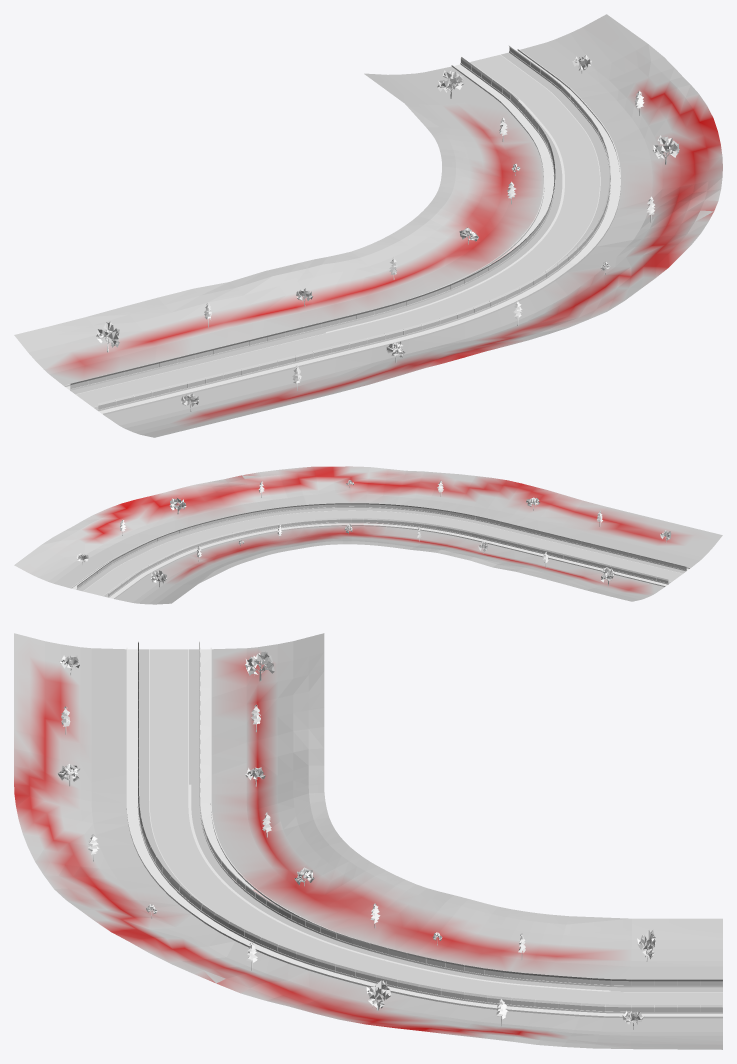
3 renders of one model, top to bottom at view 1: azimuth 30°, elevation 25°; view 2: azimuth 150°, elevation 25°; view 3: azimuth 270°, elevation 25°, orthographic. The views are drawn at different scales.
Parts seen in each view (by area): view 1: Grass, Road, Track, Wirefence, Trees; view 2: Grass, Road, Wirefence, Track, Trees; view 3: Grass, Road, Track, Wirefence, Trees.
Part boxes in pixels (bbox=[...]): Grass: bbox=[14, 14, 722, 437]; Road: bbox=[76, 55, 599, 407]; Track: bbox=[65, 45, 620, 414]; Wirefence: bbox=[70, 46, 610, 409]; Trees: bbox=[96, 55, 679, 411]; Grass: bbox=[14, 466, 722, 604]; Road: bbox=[83, 510, 682, 596]; Wirefence: bbox=[77, 503, 686, 596]; Track: bbox=[71, 503, 689, 598]; Trees: bbox=[76, 480, 671, 587]; Grass: bbox=[14, 633, 722, 1049]; Road: bbox=[149, 649, 722, 1004]; Track: bbox=[126, 647, 722, 1018]; Wirefence: bbox=[138, 641, 722, 1011]; Trees: bbox=[58, 651, 655, 1029].
Size of what is drawn, in the model's own units: 44500 by 1821 by 32000.
